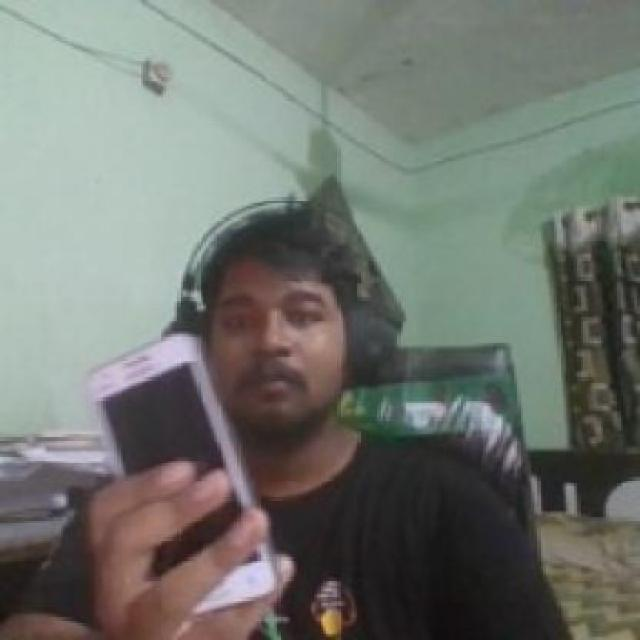Phone: (79, 331, 276, 616)
